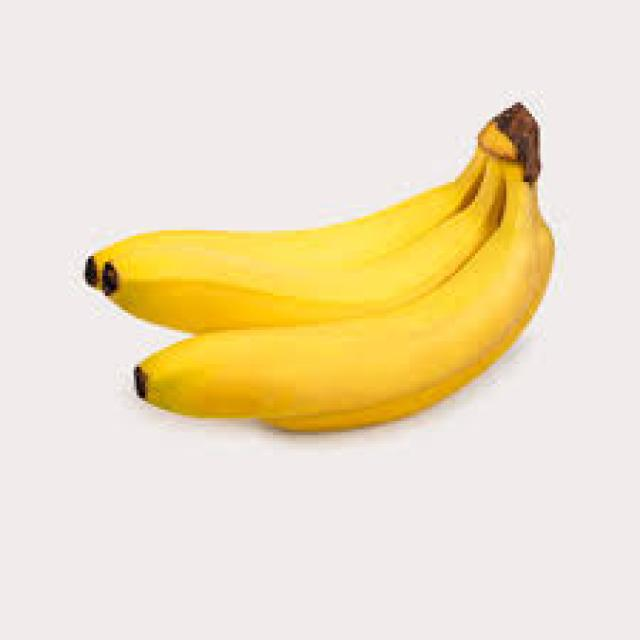Banana: (152, 293, 550, 426), (113, 247, 489, 320)
